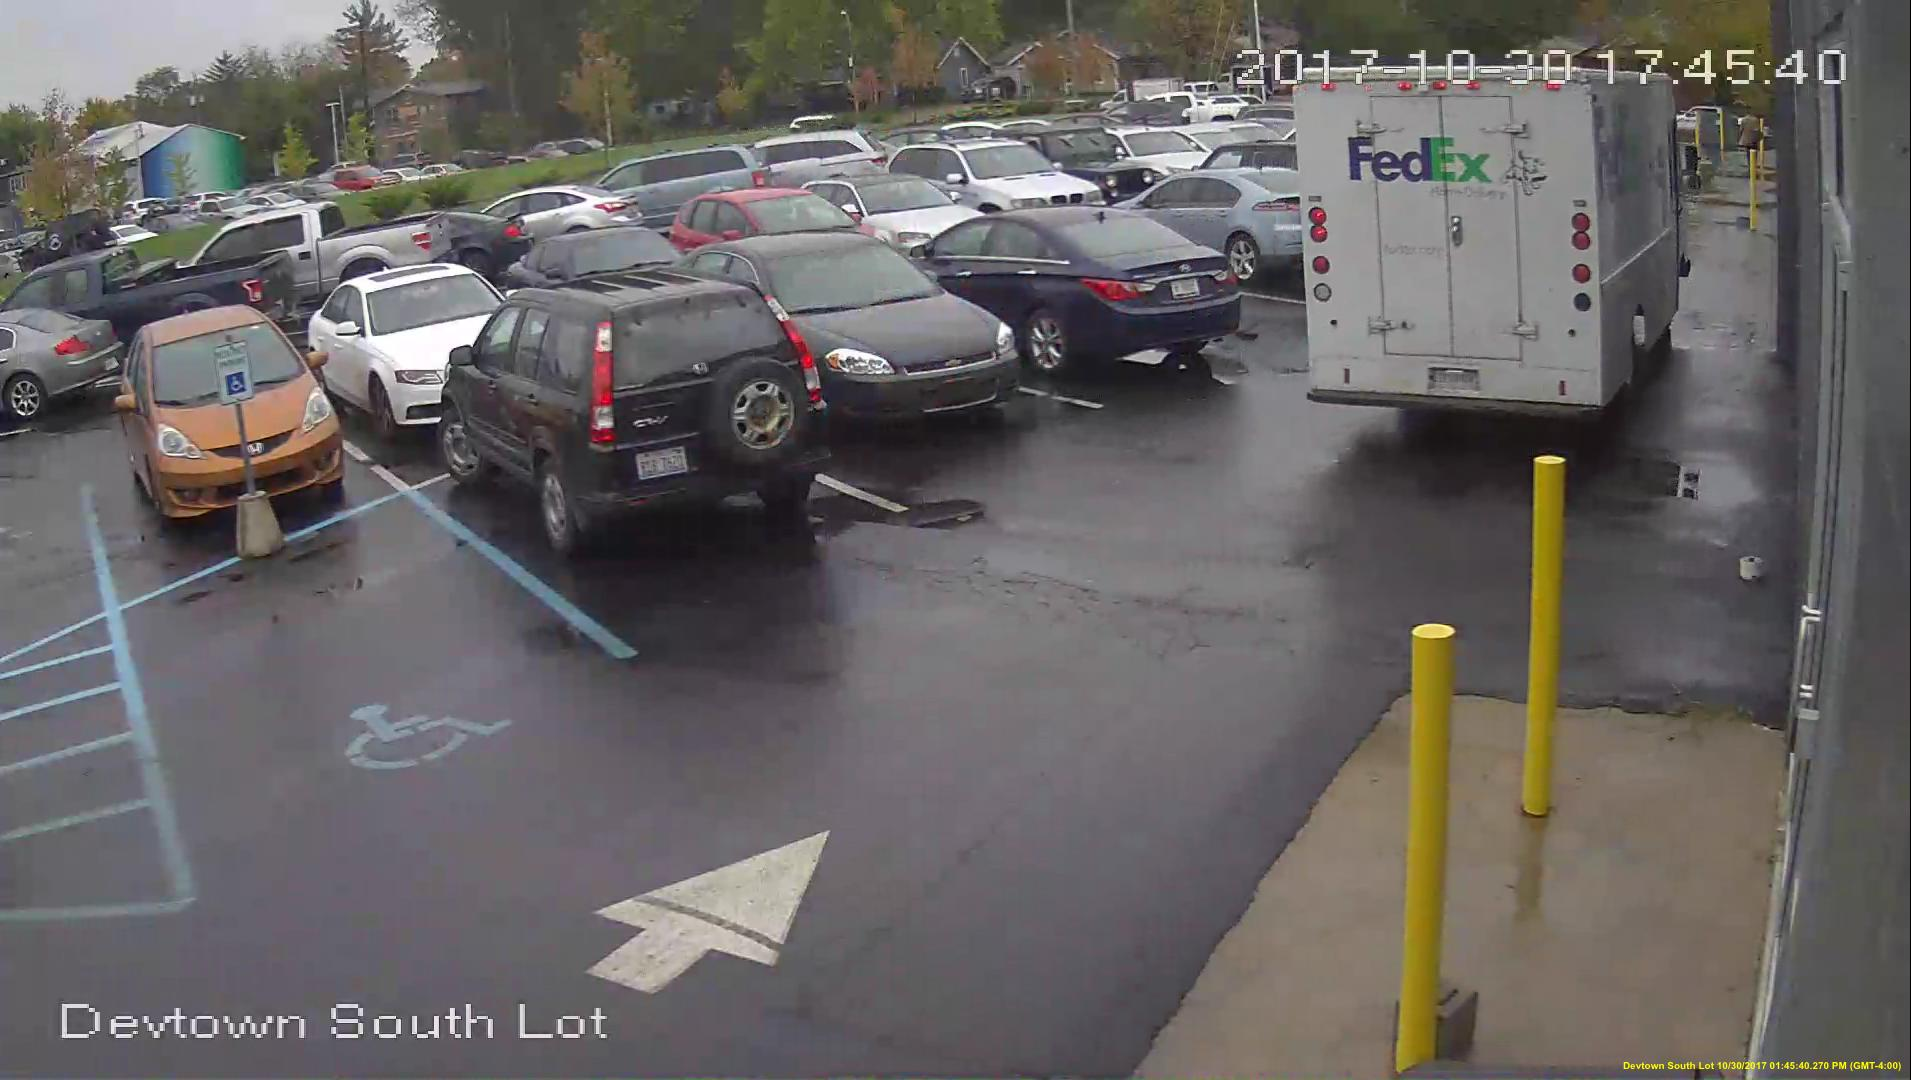fedex_truck: (1298, 70, 1679, 415)
